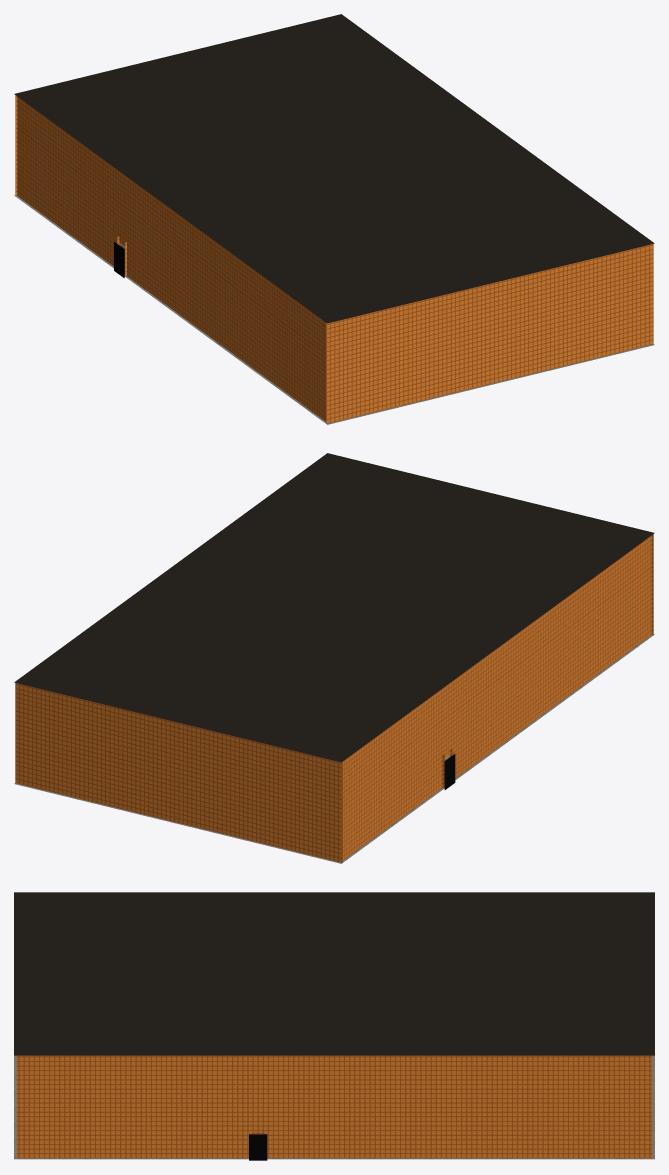
The model's file is rdwe_trampoline.glb.
3 views of the same model, one above another, from view 1: azimuth 30°, elevation 25°; view 2: azimuth 150°, elevation 25°; view 3: azimuth 270°, elevation 25° (orthographic). The views are drawn at different scales.
Visible parts, largest first — view 1: Truss_Deck.001, Pad_Wall.001, Concrete_Apron.001; view 2: Truss_Deck.001, Pad_Wall.001, Concrete_Apron.001; view 3: Truss_Deck.001, Pad_Wall.001, Concrete_Apron.001, Void.001.
Boxes of the visible parts, x1,y1,x2,y2 form: Truss_Deck.001: [14, 14, 654, 323]; Pad_Wall.001: [15, 95, 653, 423]; Concrete_Apron.001: [14, 195, 654, 424]; Truss_Deck.001: [14, 453, 654, 762]; Pad_Wall.001: [15, 534, 653, 862]; Concrete_Apron.001: [14, 634, 654, 863]; Truss_Deck.001: [14, 892, 654, 1055]; Pad_Wall.001: [16, 1055, 652, 1158]; Concrete_Apron.001: [14, 1055, 654, 1159]; Void.001: [249, 1134, 267, 1160].
Size of the model in its own units: 30.7 by 9.05 by 50.4.
Materials: 17 (8 with a texture image).
